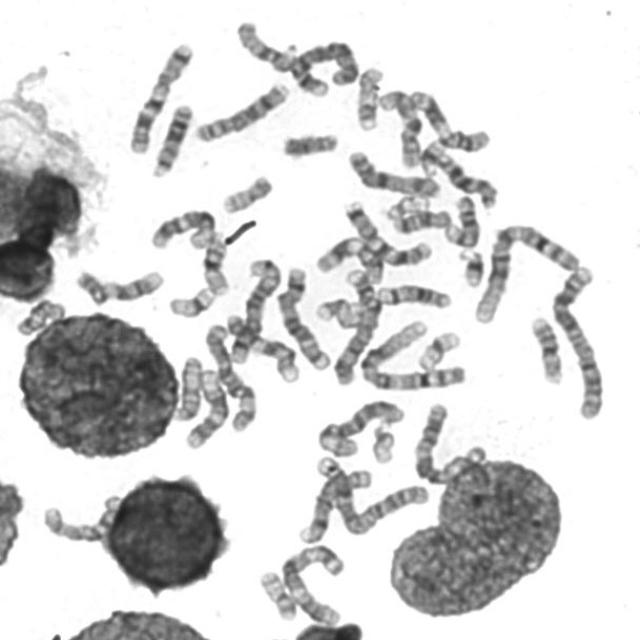A1: (469, 217, 583, 324), (355, 314, 470, 392)
A2: (310, 450, 430, 536), (548, 259, 608, 422)
A3: (409, 398, 484, 487), (275, 540, 348, 628)
B4: (328, 264, 381, 387), (285, 36, 360, 96)
B5: (272, 261, 334, 372), (224, 253, 284, 365)
C10: (37, 490, 139, 548), (373, 84, 425, 170)
C11: (404, 85, 493, 154), (311, 231, 387, 285)
C12: (181, 366, 231, 451), (146, 204, 221, 252)
C6: (200, 317, 260, 434), (313, 394, 407, 458)
C7: (124, 36, 197, 156), (340, 196, 435, 268)
C8: (189, 77, 292, 144), (294, 462, 374, 546)
C9: (220, 308, 304, 384), (70, 263, 168, 307)
D13: (430, 146, 500, 211), (146, 99, 196, 180)
D14: (372, 278, 454, 311), (440, 190, 482, 248)
D15: (232, 15, 298, 74), (170, 350, 205, 422)
E16: (526, 310, 566, 386), (198, 232, 233, 296)
E17: (351, 61, 386, 132), (310, 293, 367, 329)
E18: (11, 295, 67, 337), (388, 204, 453, 236)
F19: (413, 325, 462, 371), (164, 281, 217, 320)
F20: (218, 170, 276, 216), (254, 566, 298, 622)
G21: (414, 135, 455, 180), (454, 244, 488, 289)
G22: (380, 190, 431, 222), (367, 417, 398, 466)
X: (342, 145, 443, 200)
Y: (278, 127, 340, 160)
